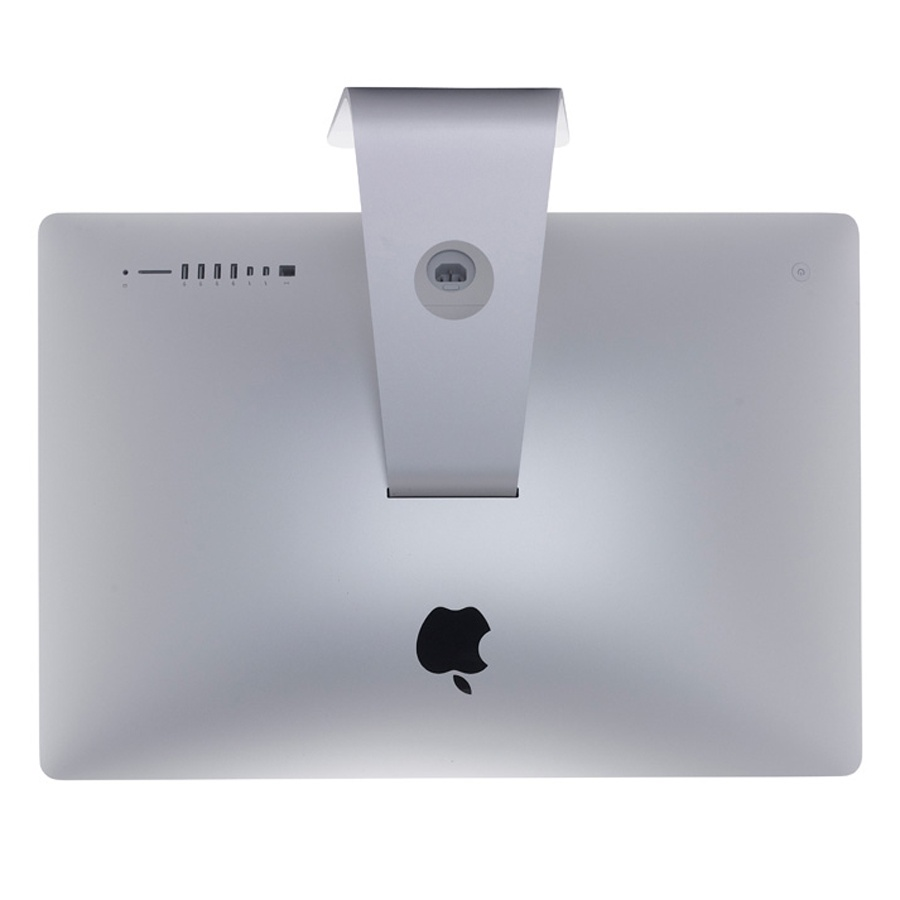Apple: (323, 596, 676, 737)
